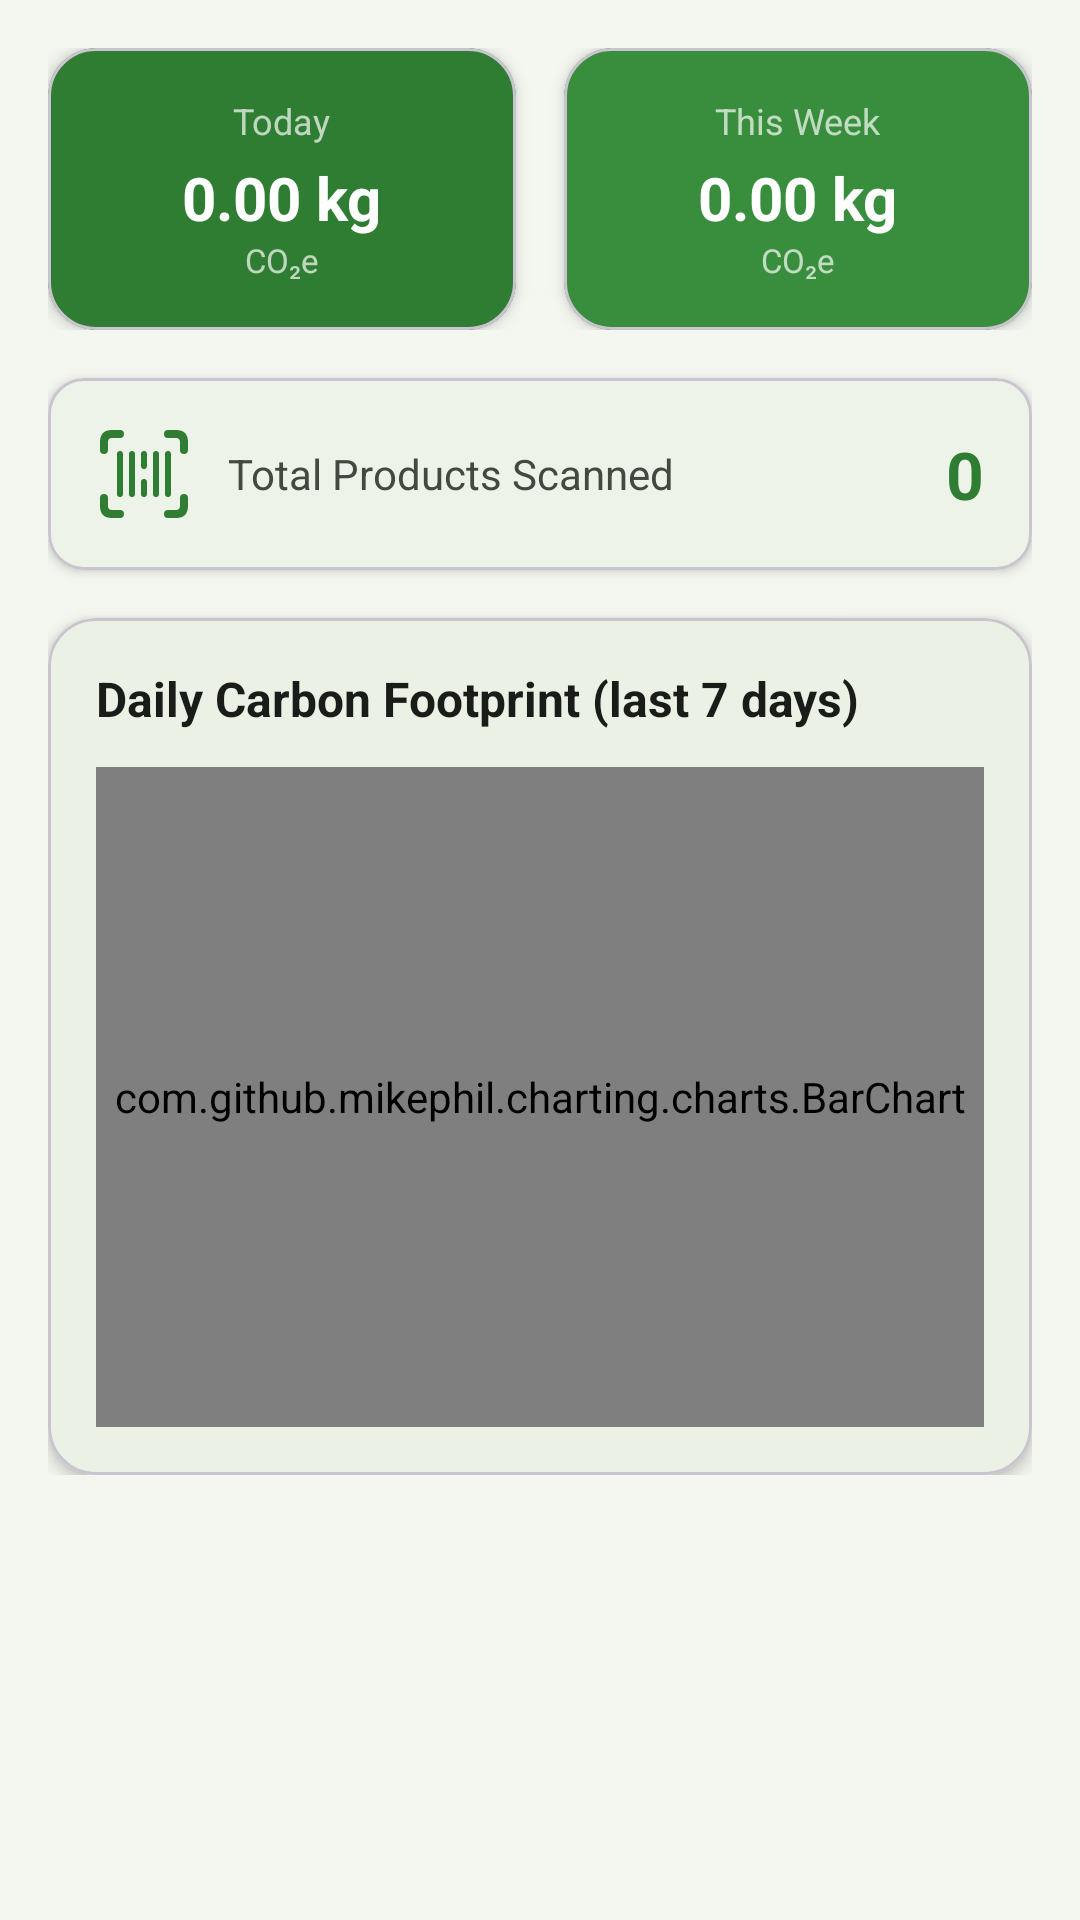

Screen size 1080x1920. Icon name, then its box in pixels as (x1, y1, x2, y2):
Scans: (100, 430, 188, 518)
